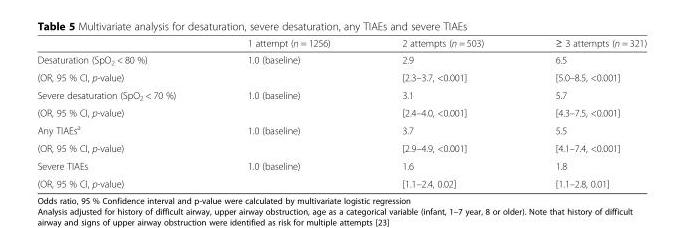table: (36, 36, 646, 188)
table column: (36, 36, 211, 188), (211, 36, 365, 188), (365, 36, 518, 188), (518, 36, 646, 188)
table column header: (36, 36, 646, 51)
table row: (36, 85, 646, 104), (36, 120, 646, 139), (36, 156, 646, 174), (36, 51, 646, 68), (36, 68, 646, 85), (36, 139, 646, 156), (36, 104, 646, 120), (36, 36, 646, 51), (36, 174, 646, 188)
table spanning cell: (211, 120, 365, 156), (211, 85, 365, 120), (211, 51, 365, 85), (211, 156, 365, 188)
